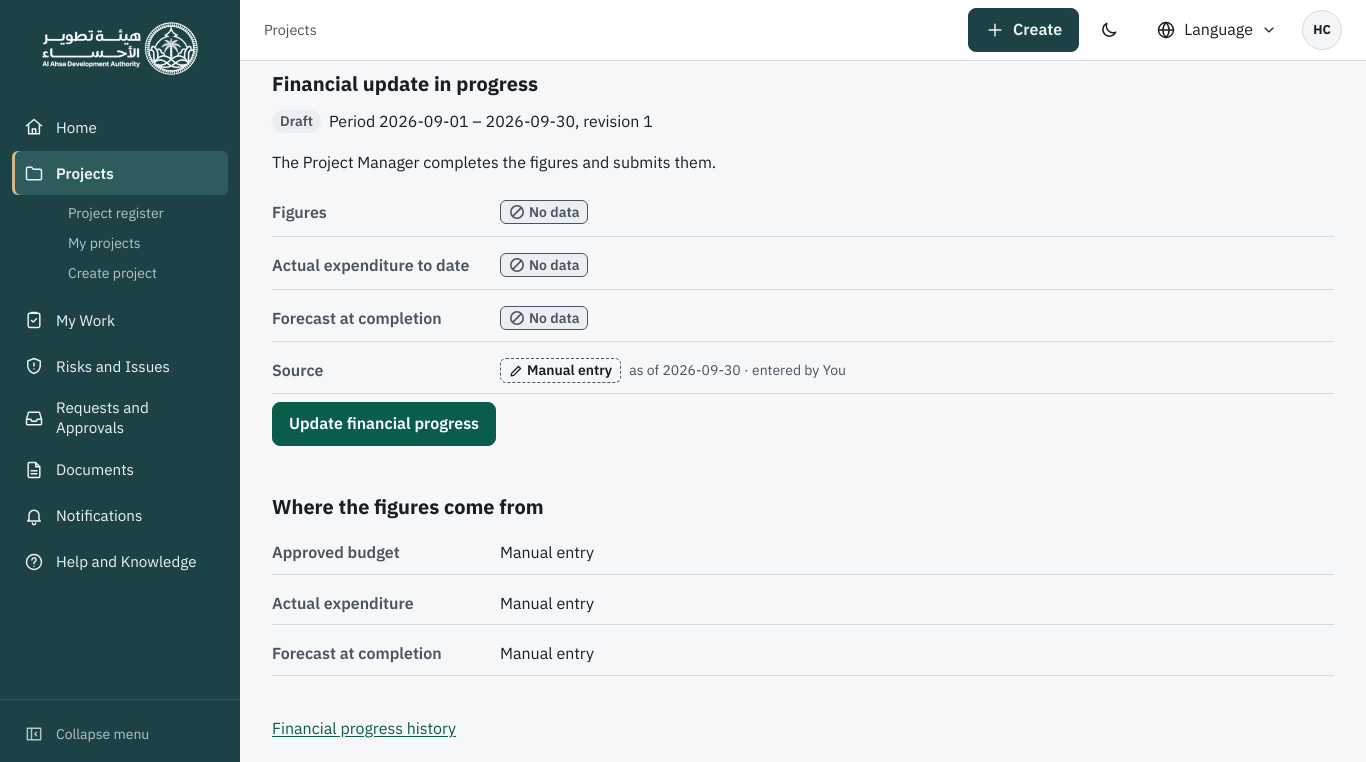
Test: MOD-023 Update Financial Progress › "No data" sends no figure at all — null, never "0.00" — then submits with the saved ETag
(page scrolled)
Click the button "Update financial progress": {"x": 384, "y": 424} [272,402,496,446]
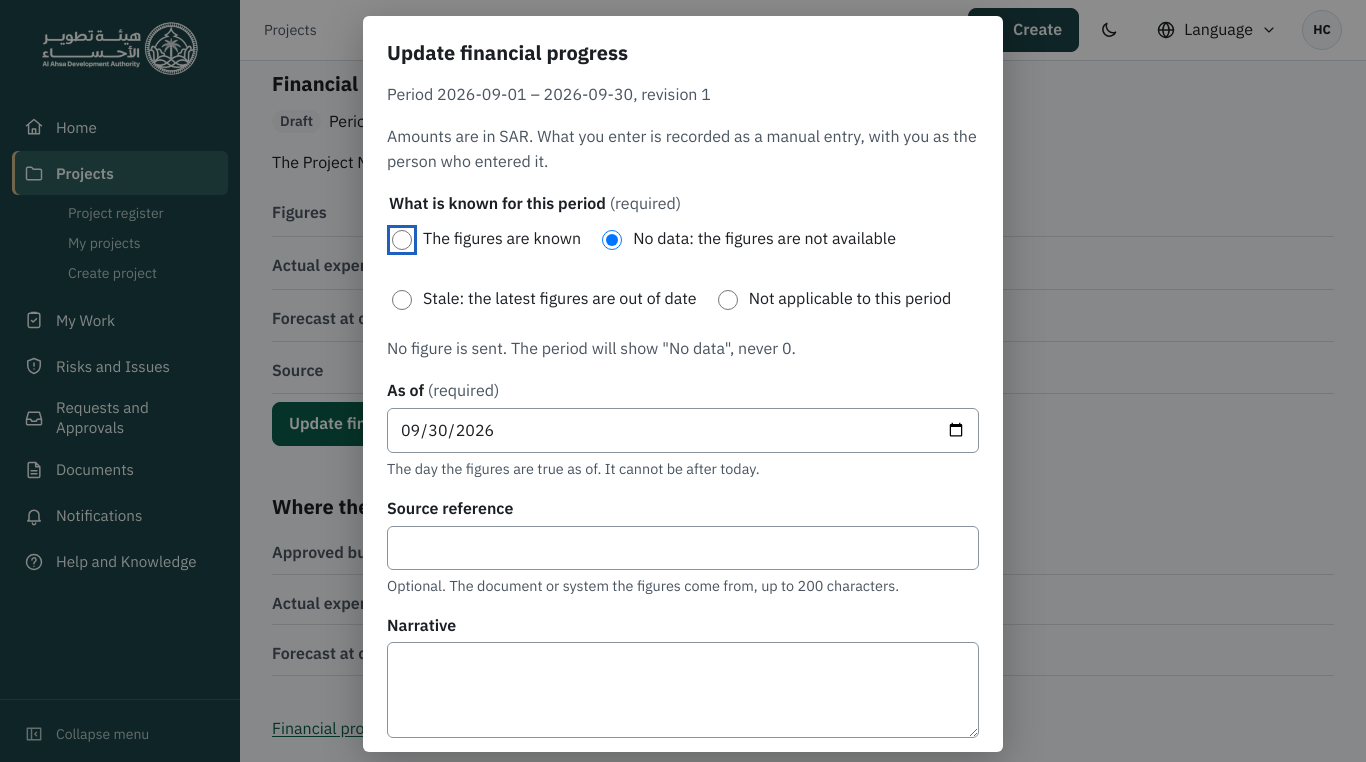
Click the radio button labelled "No data: the figures are not available": {"x": 612, "y": 240} [602,230,622,250]
(page scrolled)
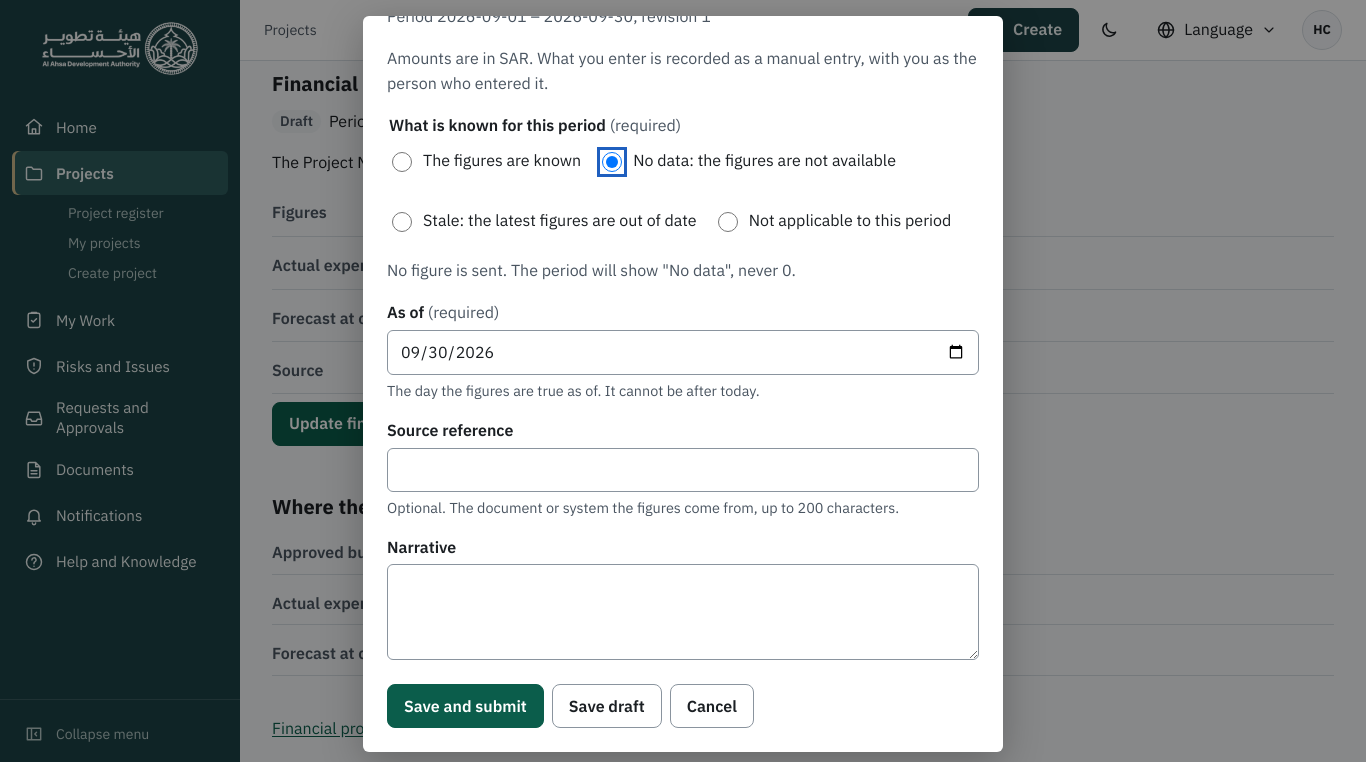
Click the button "Save and submit": {"x": 465, "y": 706} [387,684,544,728]
(page scrolled)
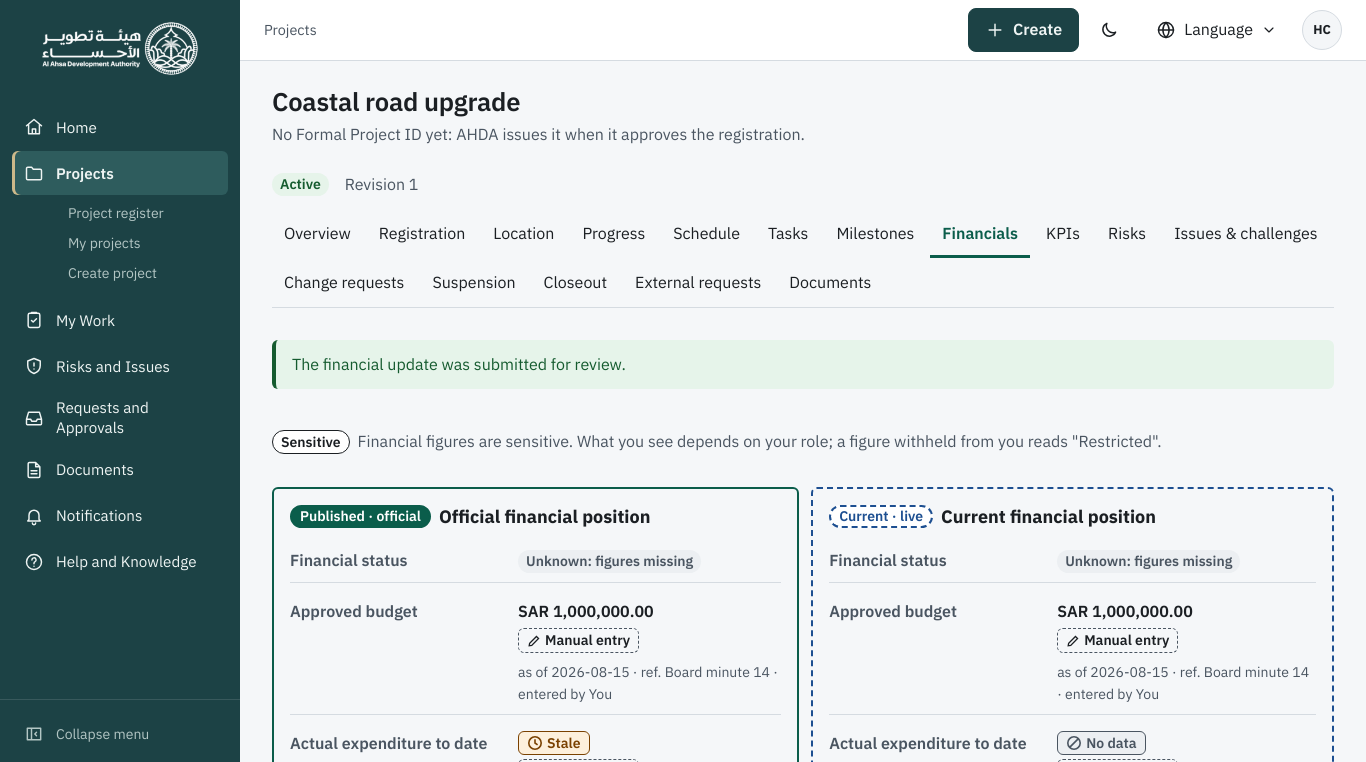
Expected: the text "The financial update was submitted for review." is shown, [272,340,1334,389]
